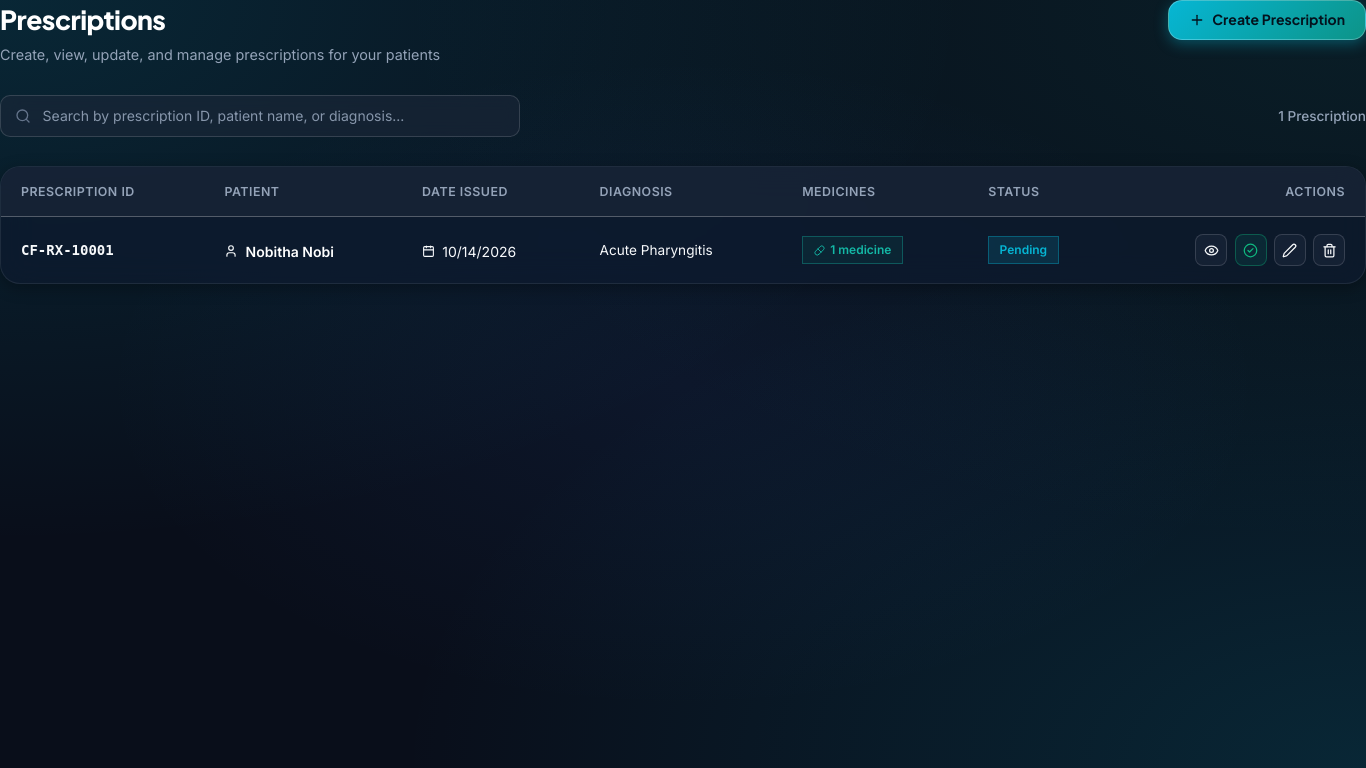
Test: CareFlow HMS — Doctor Dashboard Suite › DoctorPrescriptionsPage › opens view details modal for prescription
Expected: the text "Nobitha Nobi" is shown, [246, 240, 334, 262]
Click the button titled "View Details": coordinates (1211, 250) [1195, 234, 1227, 266]
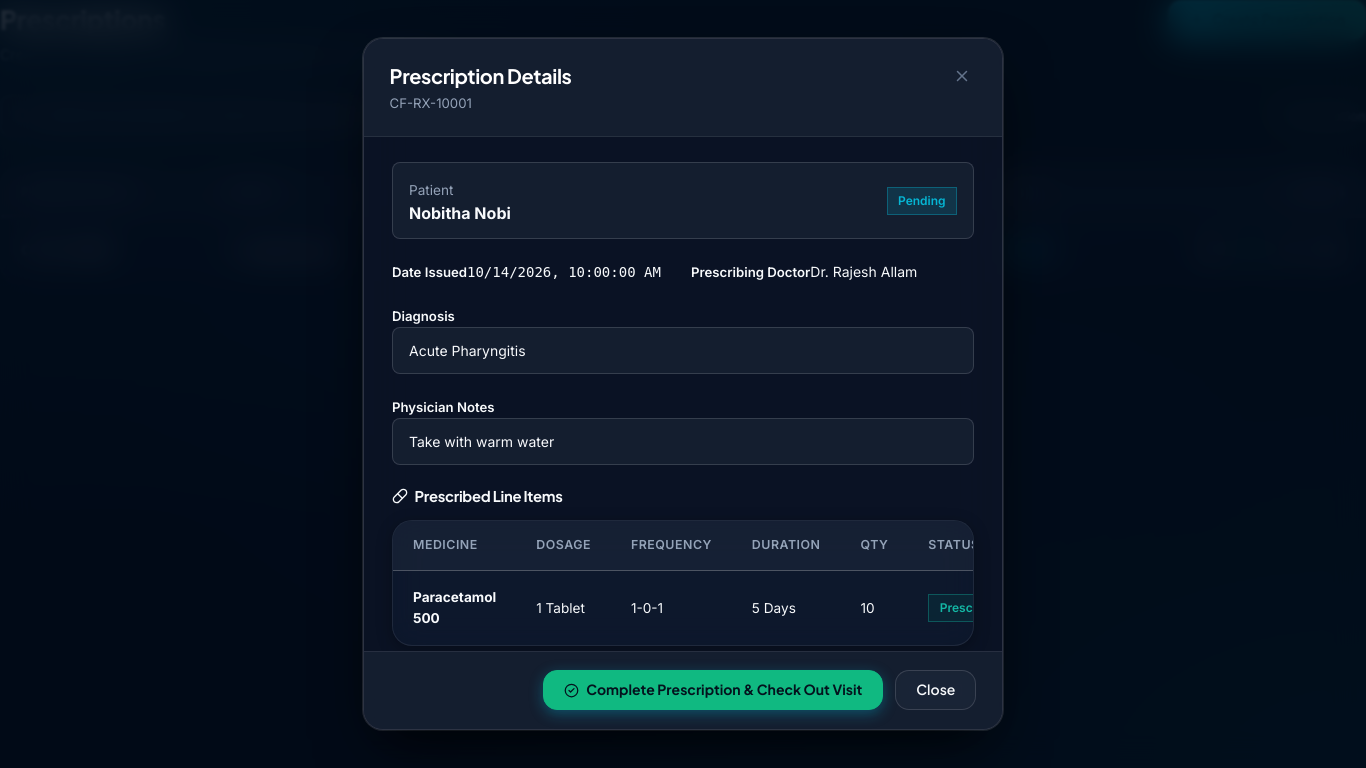
Expected: the heading "Prescription Details" is shown, [390, 61, 572, 91]
Expected: the text "Paracetamol 500" is shown, [413, 589, 496, 626]
